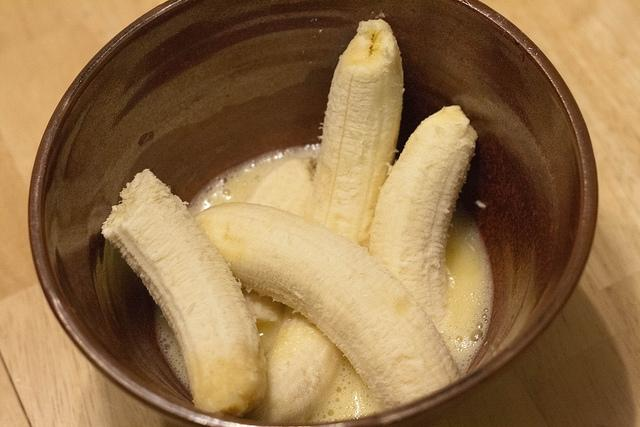banana: (245, 20, 408, 426), (194, 200, 462, 410), (101, 169, 267, 418), (370, 106, 478, 335), (242, 158, 315, 328)
